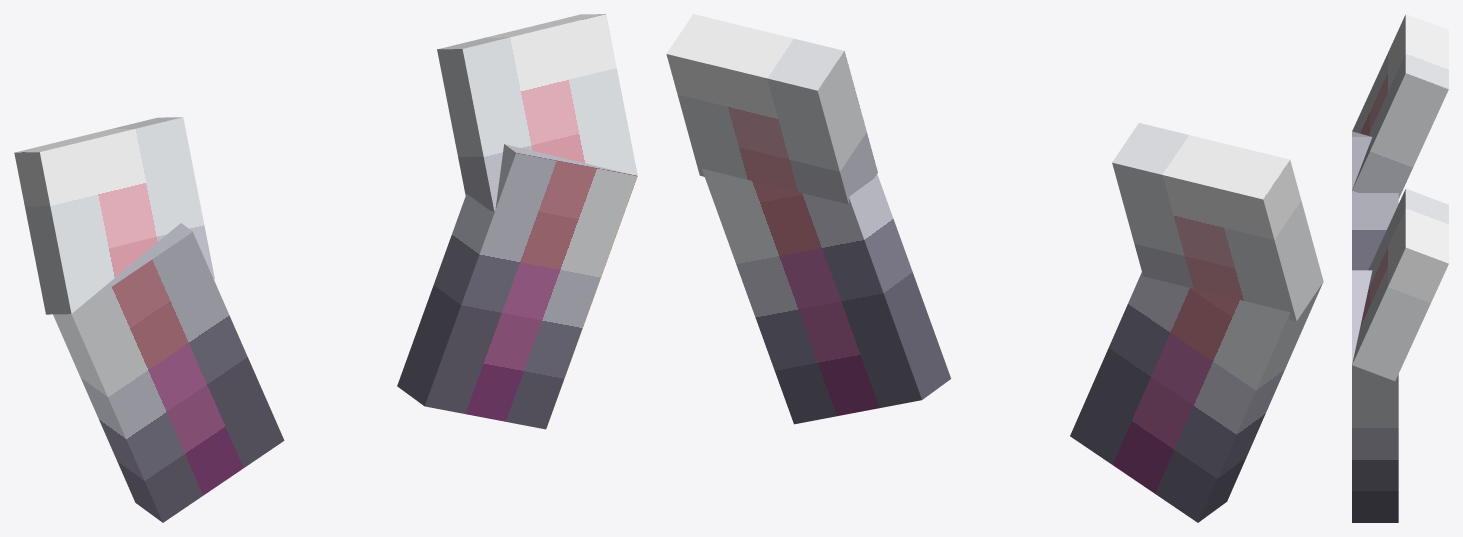
Rendered from bunnyears.glb.
3 renders of one model, left to right at view 1: azimuth 30°, elevation 25°; view 2: azimuth 150°, elevation 25°; view 3: azimuth 270°, elevation 25°, orthographic. The views are drawn at different scales.
Visible parts, largest first — view 1: bunnyears_part_3, bunnyears_part_0, bunnyears_part_1, bunnyears_part_2; view 2: bunnyears_part_3, bunnyears_part_0, bunnyears_part_1, bunnyears_part_2; view 3: bunnyears_part_2, bunnyears_part_1, bunnyears_part_3, bunnyears_part_0.
Part boxes in pixels (x1=…): bunnyears_part_3: x1=397, y1=144, x2=637, y2=429; bunnyears_part_0: x1=53, y1=223, x2=284, y2=522; bunnyears_part_1: x1=14, y1=117, x2=214, y2=314; bunnyears_part_2: x1=437, y1=14, x2=637, y2=210; bunnyears_part_3: x1=702, y1=168, x2=950, y2=424; bunnyears_part_0: x1=1070, y1=272, x2=1323, y2=522; bunnyears_part_1: x1=1112, y1=123, x2=1323, y2=321; bunnyears_part_2: x1=666, y1=14, x2=877, y2=204; bunnyears_part_2: x1=1352, y1=188, x2=1448, y2=380; bunnyears_part_1: x1=1352, y1=14, x2=1448, y2=198; bunnyears_part_3: x1=1352, y1=270, x2=1398, y2=522; bunnyears_part_0: x1=1352, y1=131, x2=1398, y2=270.
Size of the model in its own units: 0.7399 by 0.4619 by 0.1295.
Materials: 1 (1 with a texture image).
